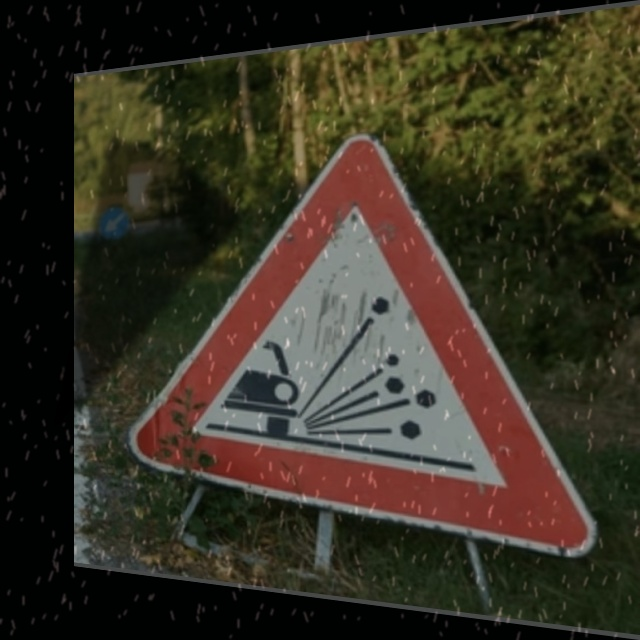Loose_Gravel: (145, 123, 558, 532)
